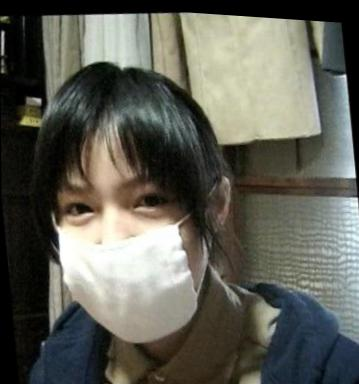WRONG: (50, 161, 213, 339)
